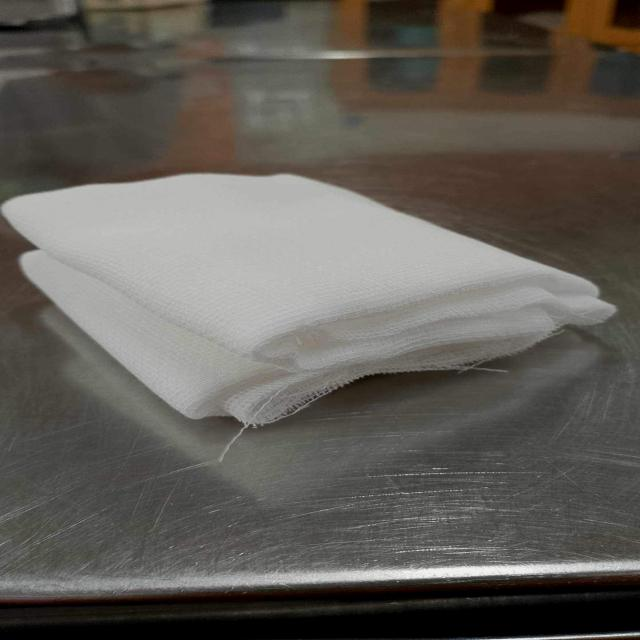General: (3, 3, 637, 636), (3, 170, 620, 429)
